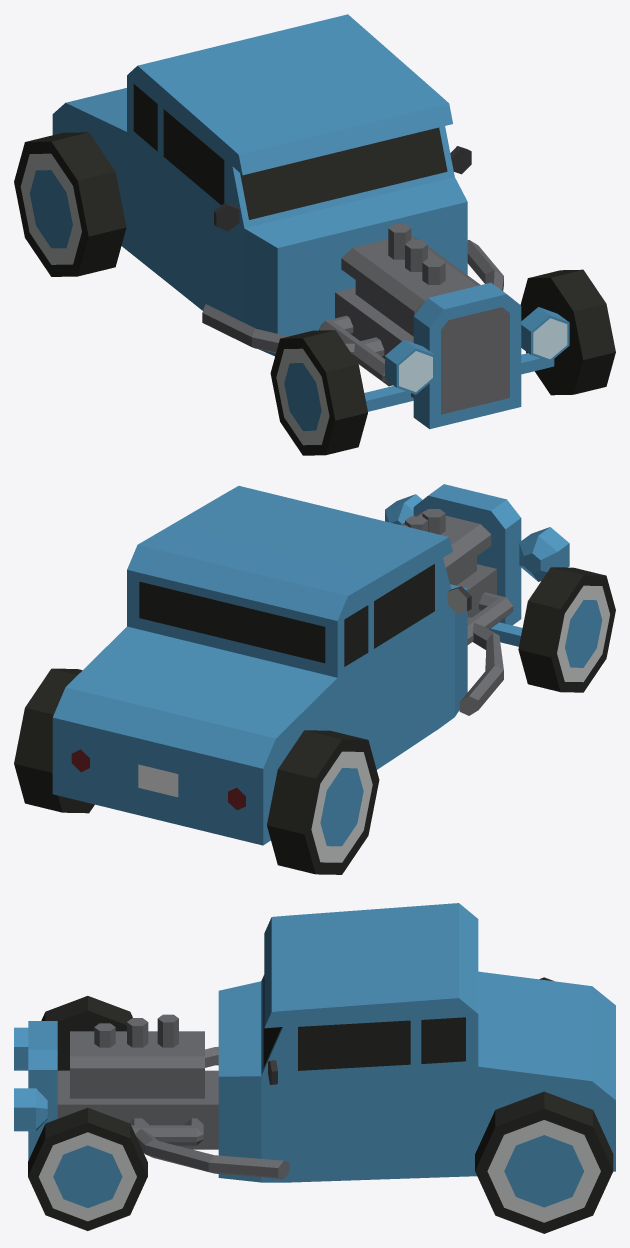
File: Veh_HotRod_Blue.glb
The picture shows the model from 3 angles, top to bottom: view 1: azimuth 30°, elevation 25°; view 2: azimuth 150°, elevation 25°; view 3: azimuth 270°, elevation 25°; orthographic projection. The views are drawn at different scales.
Visible parts, largest first — view 1: HotRod_Blue, Wheel_RR, Wheel_FR, Wheel_FL; view 2: HotRod_Blue, Wheel_RR, Wheel_FR, Wheel_RL; view 3: HotRod_Blue, Wheel_RL, Wheel_FL, Wheel_FR.
Part boxes in pixels (x1,y1,x2,y2): HotRod_Blue: (52,14,569,429); Wheel_RR: (14,132,126,276); Wheel_FR: (270,330,367,455); Wheel_FL: (520,269,615,395); HotRod_Blue: (52,484,569,845); Wheel_RR: (267,730,379,874); Wheel_FR: (518,567,615,692); Wheel_RL: (14,668,94,813); HotRod_Blue: (14,903,615,1182); Wheel_RL: (475,1091,613,1233); Wheel_FL: (28,1107,147,1230); Wheel_FR: (41,996,132,1070).
Bounding box in the file's own units: 1.21 × 0.9391 × 2.35.
1 material, 1 textured.
